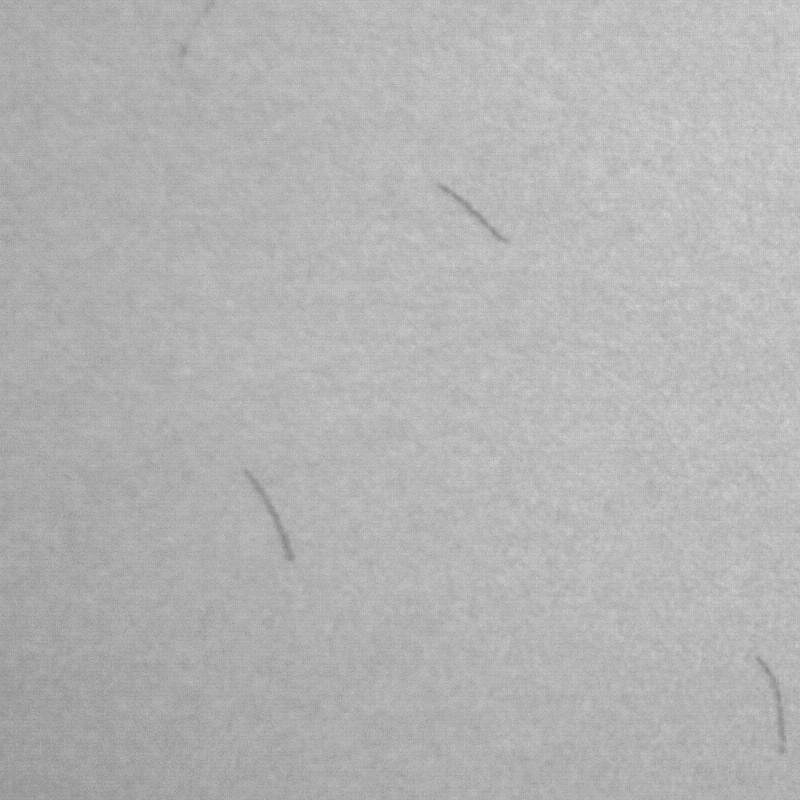defect: (242, 468, 297, 558), (442, 186, 509, 245), (756, 658, 791, 754), (179, 1, 212, 60)
